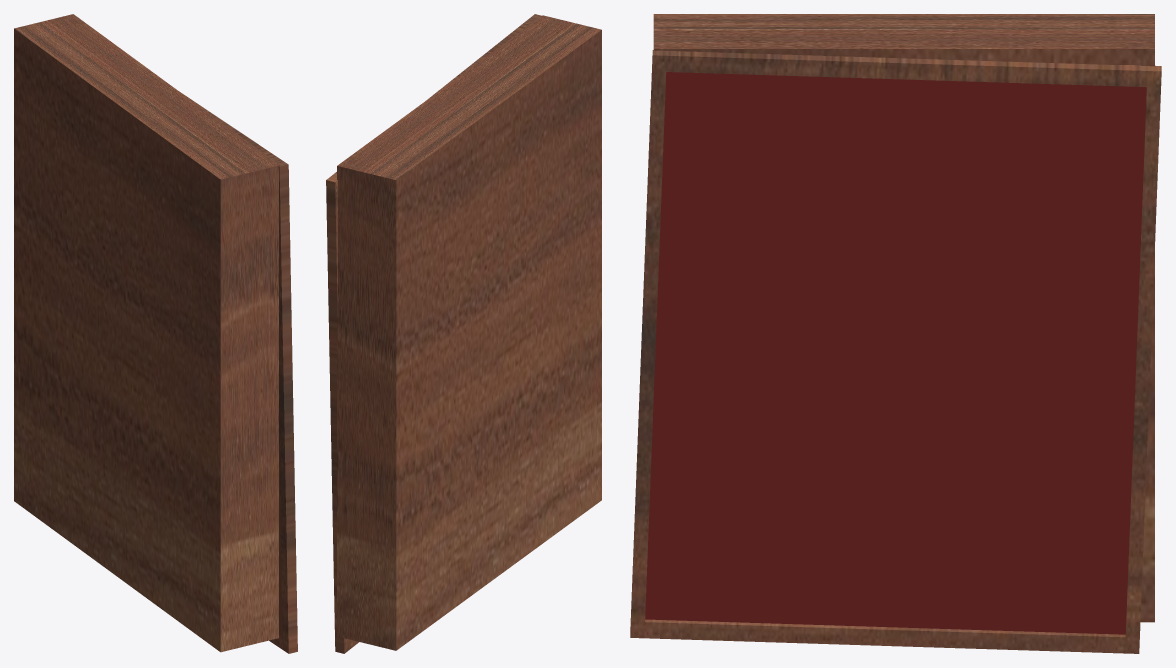
The model's file is picture.fbx.
3 views of the same model, side by side, from view 1: azimuth 30°, elevation 25°; view 2: azimuth 150°, elevation 25°; view 3: azimuth 270°, elevation 25° (orthographic). The views are drawn at different scales.
Visible parts, largest first — view 1: Cube, Cube.001; view 2: Cube, Cube.001; view 3: Cube.002, Cube.001, Cube.
Part boxes in pixels (x1,y1,x2,y2): Cube: (14, 14, 279, 652); Cube.001: (182, 93, 297, 653); Cube: (337, 15, 601, 650); Cube.001: (326, 14, 541, 653); Cube.002: (645, 72, 1146, 634); Cube.001: (630, 50, 1161, 653); Cube: (653, 14, 1154, 622).
Size of the model in its own units: 11.29 by 78.88 by 63.33.
